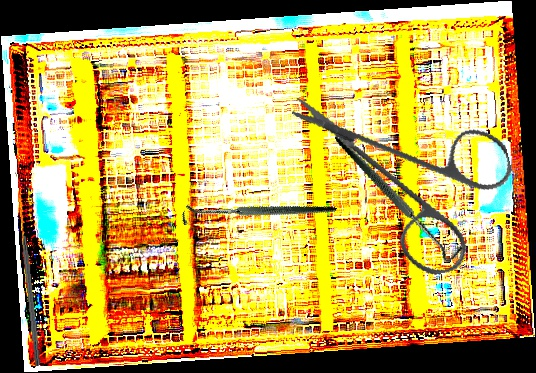Hook Surgical: (334, 111, 466, 283), (178, 146, 337, 284), (17, 210, 43, 366)
Iris Scissors: (289, 51, 532, 300)
